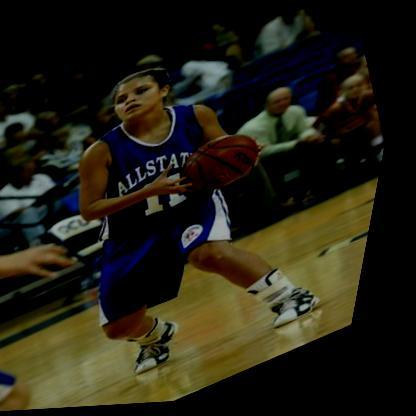basketball: (170, 122, 276, 207)
